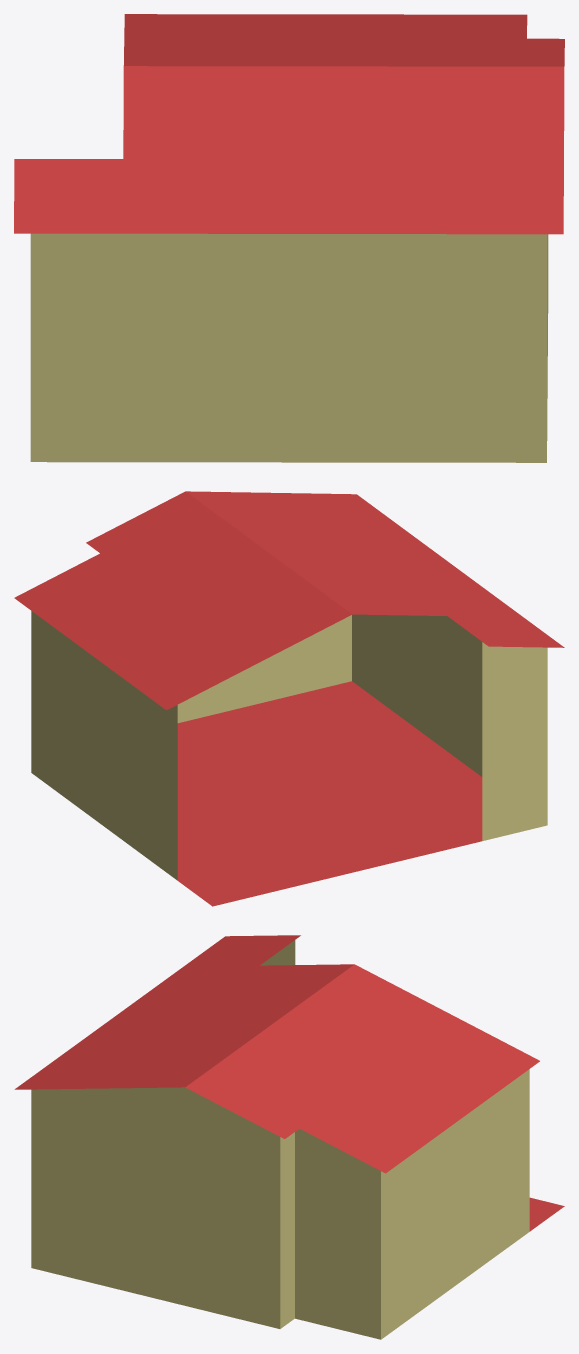
3 views of the same model, one above another, from view 1: azimuth 30°, elevation 25°; view 2: azimuth 150°, elevation 25°; view 3: azimuth 270°, elevation 25° (orthographic). The views are drawn at different scales.
Parts seen in each view (by area): view 1: group_5, group_3, group_4; view 2: group_3, group_5, group_6, group_4; view 3: group_5, group_3, group_4, group_6.
Boxes of the visible parts, <box> form: group_5: <box>30,233,548,462</box>; group_3: <box>14,14,564,234</box>; group_4: <box>15,14,520,233</box>; group_3: <box>14,491,564,710</box>; group_5: <box>31,611,547,880</box>; group_6: <box>177,681,482,906</box>; group_4: <box>15,519,561,708</box>; group_5: <box>31,940,529,1339</box>; group_3: <box>14,935,539,1173</box>; group_4: <box>45,935,537,1171</box>; group_6: <box>529,1197,564,1231</box>.
Bounding box in the file's own units: 21.36 × 21.56 × 9.7.
